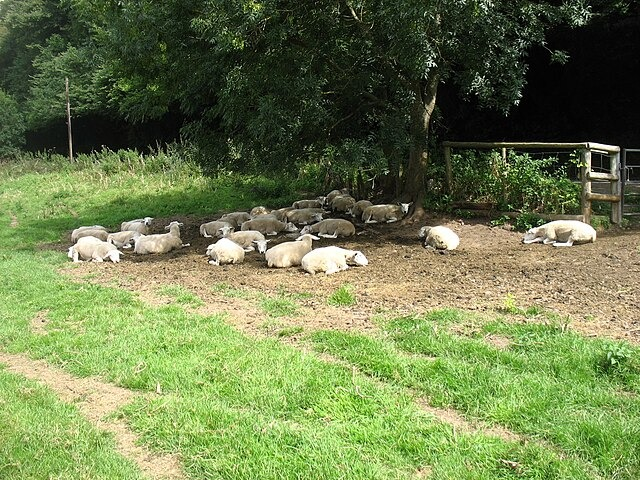resting: (521, 218, 596, 248), (300, 244, 369, 275), (132, 221, 185, 257), (69, 234, 123, 267), (362, 199, 412, 225), (297, 219, 358, 240), (238, 215, 295, 237), (232, 229, 269, 258), (197, 219, 232, 238)
